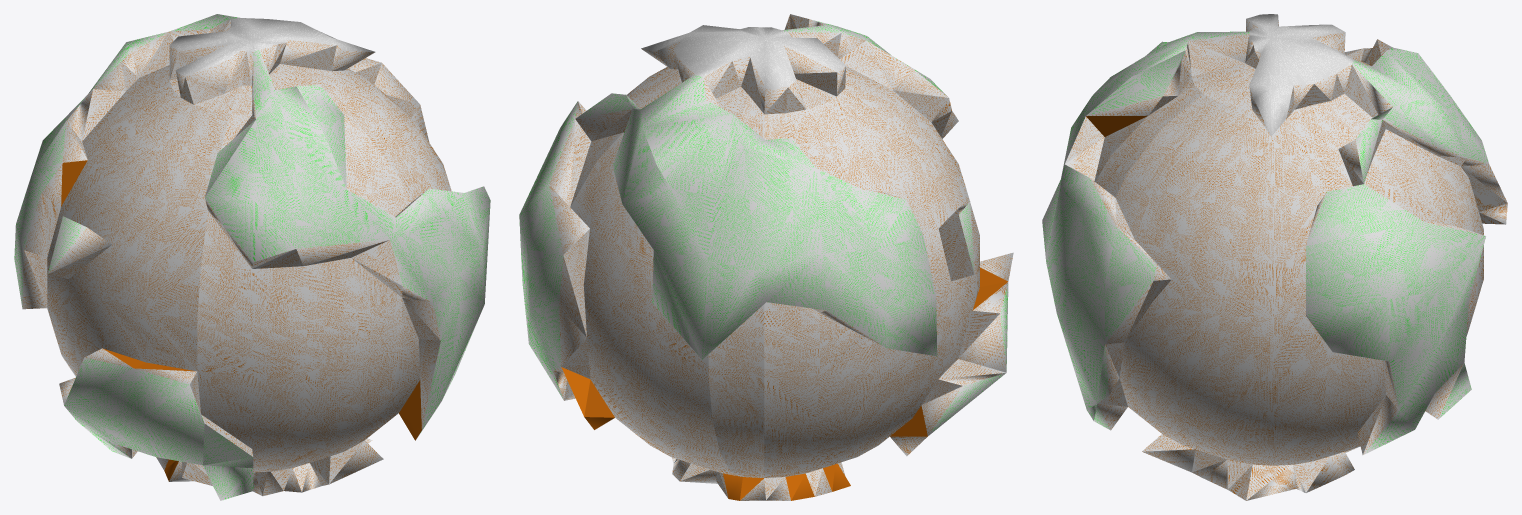
The model's file is terrain.dae.
3 views of the same model, side by side, from view 1: azimuth 30°, elevation 25°; view 2: azimuth 150°, elevation 25°; view 3: azimuth 270°, elevation 25° (orthographic). The views are drawn at different scales.
Visible parts, largest first — view 1: SketchUp (×8); view 2: SketchUp (×11); view 3: SketchUp (×8).
Part boxes in pixels (<box>): SketchUp (×8): <box>14,14,490,500</box>; SketchUp (×11): <box>519,14,1013,500</box>; SketchUp (×8): <box>1042,14,1507,500</box>.
Size of the model in its own units: 7.81 by 7.69 by 7.83.
